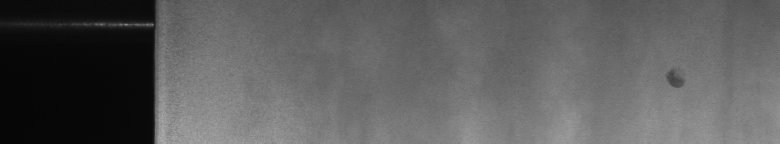fi: (662, 63, 688, 96)
